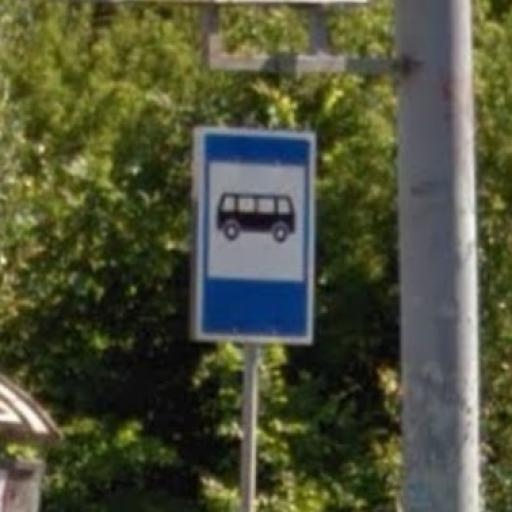traffic_sign: (197, 127, 314, 347)
